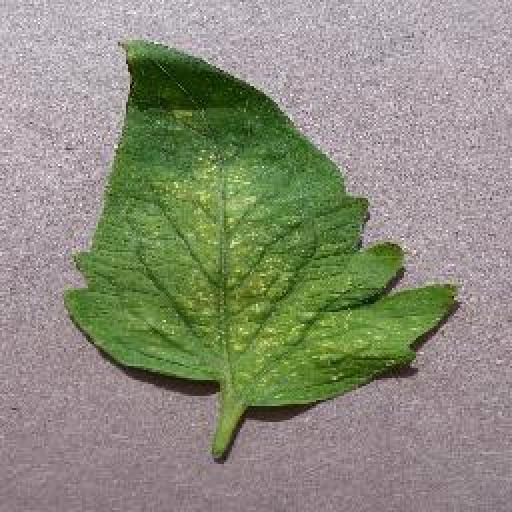disease_tomato: (63, 42, 461, 408)
